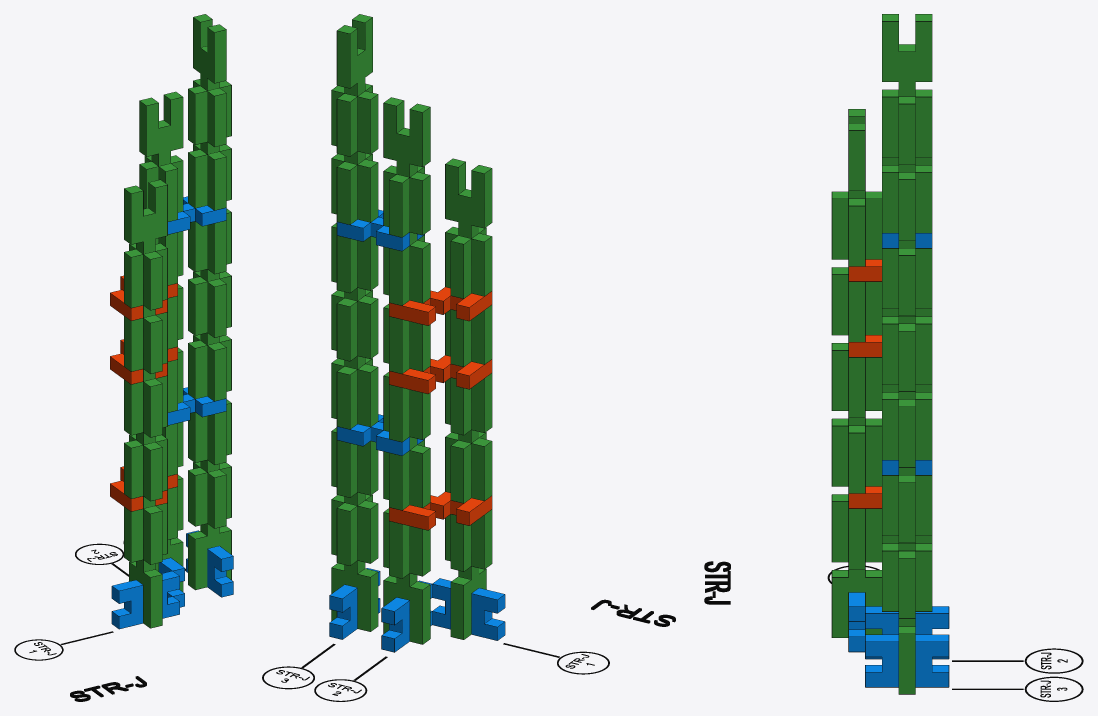
3 renders of one model, left to right at view 1: azimuth 30°, elevation 25°; view 2: azimuth 150°, elevation 25°; view 3: azimuth 270°, elevation 25°, orthographic. The views are drawn at different scales.
Parts seen in each view (by area): view 1: H_SIM (×21), X_SIM (×5), L_SIM (×3); view 2: H_SIM (×21), X_SIM (×5), L_SIM (×3); view 3: H_SIM (×14), X_SIM (×3), L_SIM (×3).
Boxes of the visible parts, <box> form: H_SIM (×21): <box>124,14,231,627</box>; X_SIM (×5): <box>112,196,233,628</box>; L_SIM (×3): <box>110,276,177,511</box>; H_SIM (×21): <box>331,14,491,644</box>; X_SIM (×5): <box>329,210,504,651</box>; L_SIM (×3): <box>389,287,491,529</box>; H_SIM (×14): <box>832,14,931,693</box>; X_SIM (×3): <box>849,592,948,686</box>; L_SIM (×3): <box>849,259,881,508</box>.
Size of the model in its own units: 2.55 by 5.77 by 2.95.
